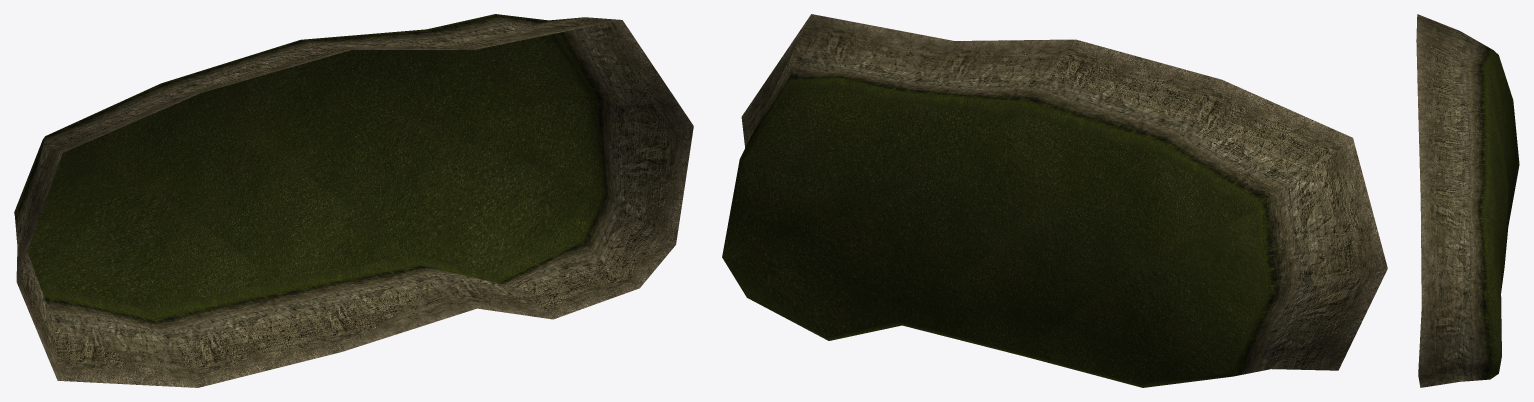
Rendered from MEP_Edge_01_a.fbx.
3 views of the same model, side by side, from view 1: azimuth 30°, elevation 25°; view 2: azimuth 150°, elevation 25°; view 3: azimuth 270°, elevation 25° (orthographic). The views are drawn at different scales.
Parts seen in each view (by area): view 1: MEP_Edge_01_a; view 2: MEP_Edge_01_a; view 3: MEP_Edge_01_a.
Boxes of the visible parts, left/top/right/bottom form: MEP_Edge_01_a: left=14, top=14, right=693, bottom=387; MEP_Edge_01_a: left=722, top=14, right=1387, bottom=387; MEP_Edge_01_a: left=1416, top=14, right=1519, bottom=387.
Size of the model in its own units: 39.19 by 17.9 by 7.77.
1 material, 1 textured.
